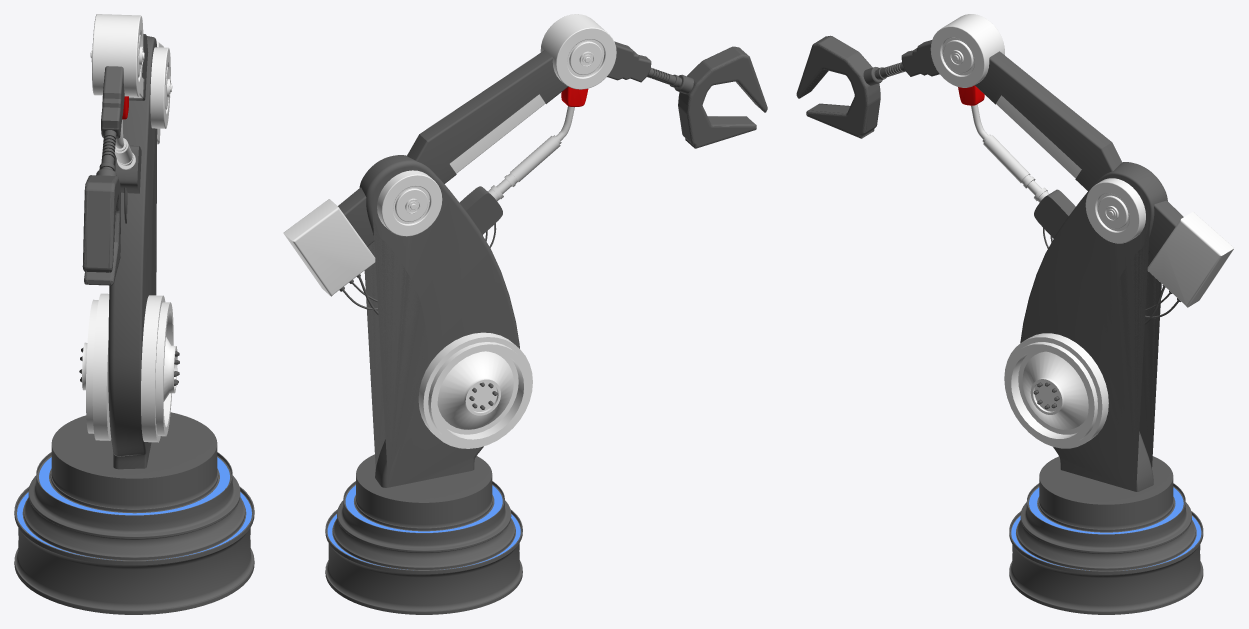
Rendered from robotArm.fbx.
The picture shows the model from 3 angles, left to right: view 1: azimuth 30°, elevation 25°; view 2: azimuth 150°, elevation 25°; view 3: azimuth 270°, elevation 25°; orthographic projection. The views are drawn at different scales.
Parts seen in each view (by area): view 1: Base, Stand_2, SCEW, Extrude_8, Cylinder_1, Cylinder, Extrude_7, Extrude_2, Sweep_7, Stand_1, Sweep_3; view 2: Stand_2, Base, SCEW, Stand_1, Extrude_8, Extrude_3, Cylinder_1, Cylinder, Extrude_2, Sweep_3, Extrude_7, Extrude; view 3: Stand_2, Base, SCEW, Stand_1, Extrude_8, Extrude_3, Cylinder_1, Cylinder, Extrude_2, Sweep_3, Extrude, Extrude_7.
Part boxes in pixels (<box>): Base: <box>14,412,254,614</box>; Stand_2: <box>108,36,157,469</box>; SCEW: <box>79,293,179,442</box>; Extrude_8: <box>82,175,120,285</box>; Cylinder_1: <box>90,14,144,96</box>; Cylinder: <box>150,47,172,128</box>; Extrude_7: <box>101,66,124,138</box>; Extrude_2: <box>115,145,141,193</box>; Sweep_7: <box>96,130,116,175</box>; Stand_1: <box>129,34,148,100</box>; Sweep_3: <box>114,138,135,169</box>; Stand_2: <box>359,155,519,487</box>; Base: <box>325,454,522,614</box>; SCEW: <box>418,332,532,448</box>; Stand_1: <box>407,50,568,183</box>; Extrude_8: <box>678,46,767,148</box>; Extrude_3: <box>283,199,375,296</box>; Cylinder_1: <box>540,14,616,89</box>; Cylinder: <box>377,157,442,236</box>; Extrude_2: <box>459,186,502,234</box>; Sweep_3: <box>488,136,560,201</box>; Extrude_7: <box>607,41,651,82</box>; Extrude: <box>338,187,374,246</box>; Stand_2: <box>1020,162,1167,491</box>; Base: <box>1009,456,1203,614</box>; SCEW: <box>1004,333,1108,448</box>; Stand_1: <box>975,51,1121,190</box>; Extrude_8: <box>796,35,880,138</box>; Extrude_3: <box>1147,212,1234,307</box>; Cylinder_1: <box>930,14,1004,87</box>; Cylinder: <box>1085,170,1163,243</box>; Extrude_2: <box>1034,189,1075,238</box>; Sweep_3: <box>983,135,1049,202</box>; Extrude: <box>1148,200,1183,255</box>; Extrude_7: <box>901,40,939,76</box>.
Size of the model in its own units: 315 by 563 by 436.
